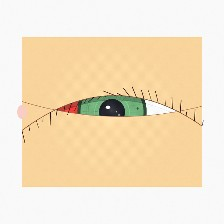hemorrhage_spot: (31, 76, 117, 144)
